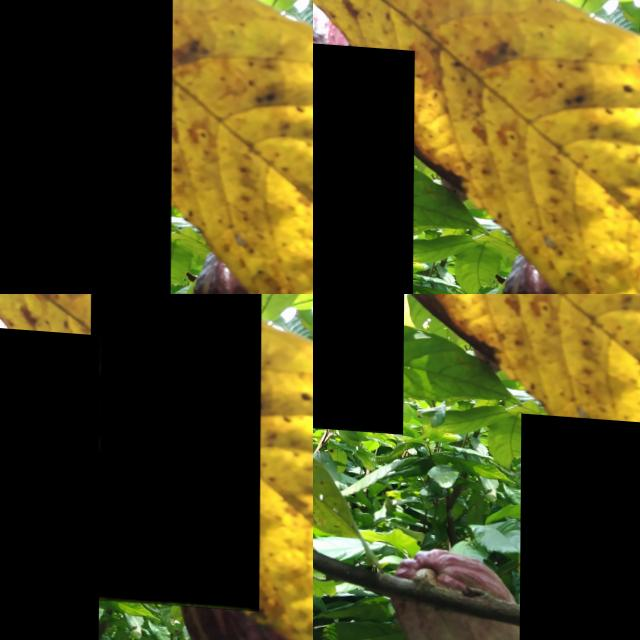Fitoftora: (520, 406, 640, 640)
Monilia: (313, 33, 415, 294), (313, 294, 405, 429)
Sana: (89, 294, 261, 603), (0, 0, 172, 294), (0, 315, 101, 640), (402, 547, 529, 640), (595, 76, 638, 126), (627, 73, 640, 124)
